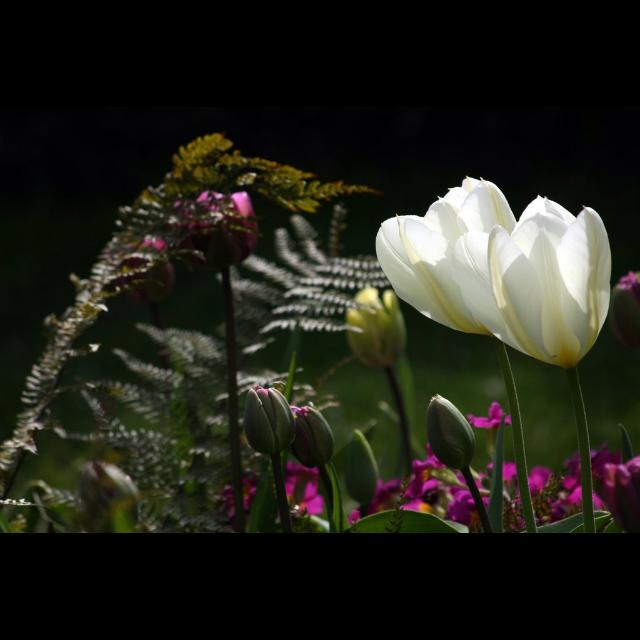Flower: (372, 174, 628, 374)
